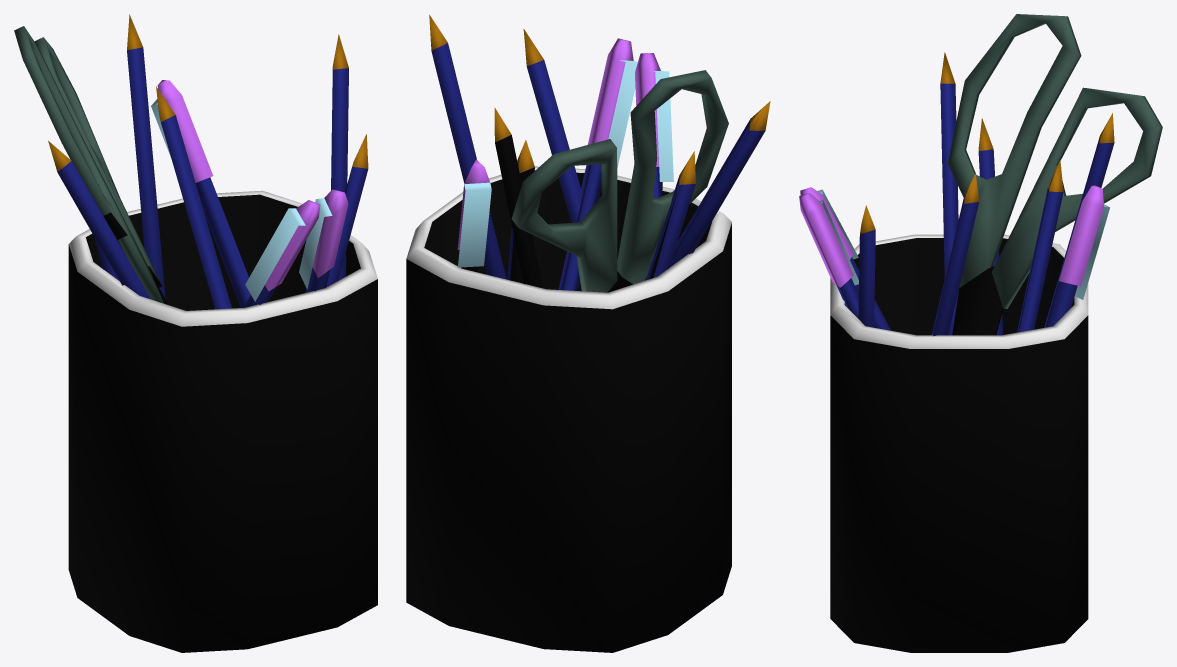
Rendered from Stationery.fbx.
3 views of the same model, side by side, from view 1: azimuth 30°, elevation 25°; view 2: azimuth 150°, elevation 25°; view 3: azimuth 270°, elevation 25° (orthographic). The views are drawn at different scales.
Parts seen in each view (by area): view 1: Cube.059; view 2: Cube.059; view 3: Cube.059.
Part boxes in pixels (<box>): Cube.059: <box>14,14,377,652</box>; Cube.059: <box>406,14,770,652</box>; Cube.059: <box>799,14,1162,652</box>.
Bounding box in the file's own units: 287 × 490 × 312.
